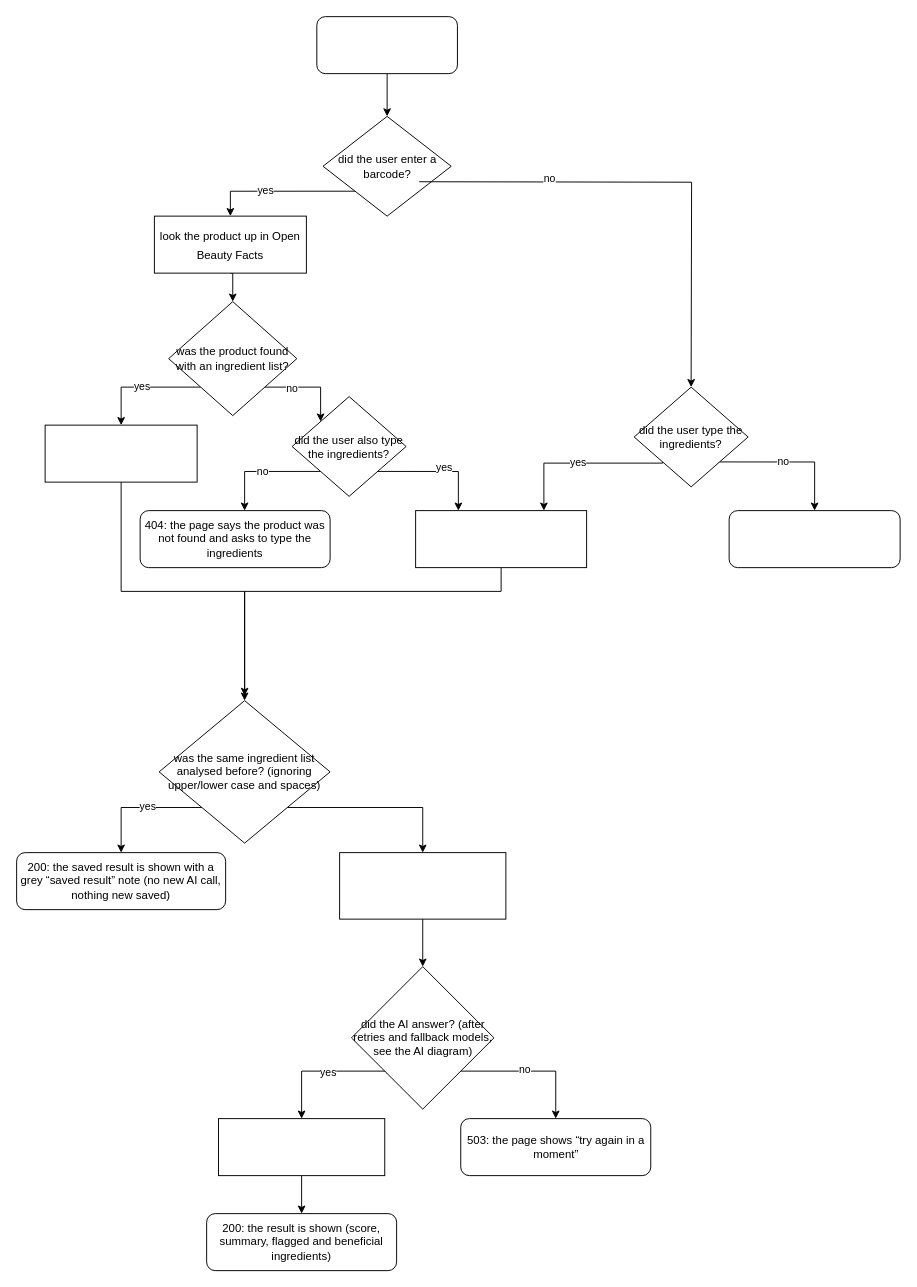
Some shapes in this 917 by 1287 pixel diagram are drawn without their labels. The box of each missing label's shape, as (x1, y1, x2, y2) in pixels:
400: the page asks for a barcode or an ingredient list: (728, 510, 900, 568)
ask the AI to analyse the ingredient list: (339, 852, 506, 919)
save the analysis in the database: (218, 1118, 385, 1176)
use the product’s name, brand and ingredients: (44, 424, 197, 482)
use the typed ingredients (product name “Manual Entry”): (415, 510, 587, 568)
user presses Analyze (request to /api/v1/analyze): (316, 16, 457, 74)
